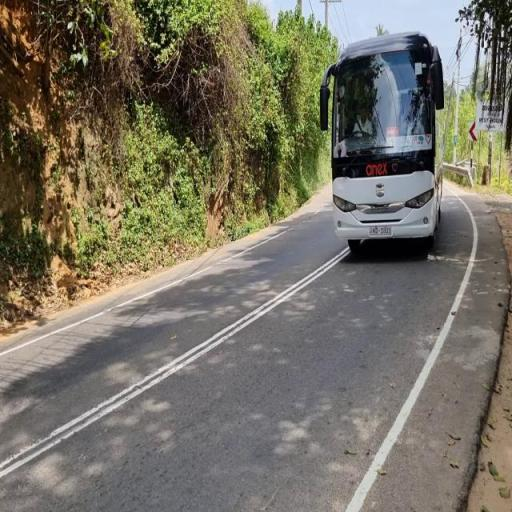double_white_line: (0, 248, 354, 482)
